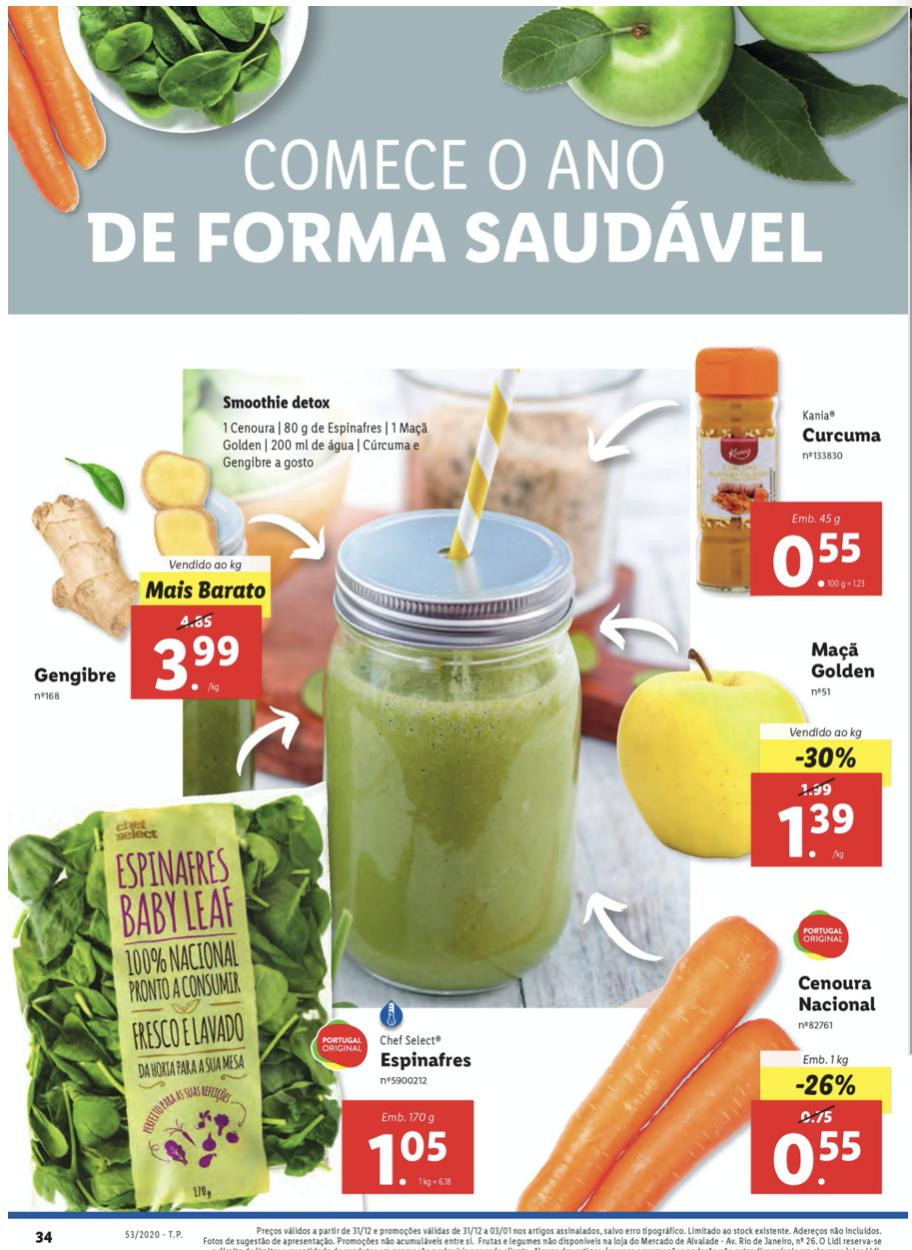name: (793, 972, 884, 1016), (805, 640, 880, 681), (799, 423, 888, 449), (379, 1049, 476, 1072), (33, 664, 120, 687)
price: (770, 527, 867, 595), (147, 630, 244, 695), (773, 1126, 867, 1193), (362, 1126, 453, 1190), (776, 795, 856, 866)
product: (13, 752, 490, 1212), (508, 883, 902, 1233), (11, 438, 299, 720), (604, 629, 894, 878), (667, 324, 908, 613)
promotion: (785, 1072, 862, 1103), (793, 743, 862, 769)
